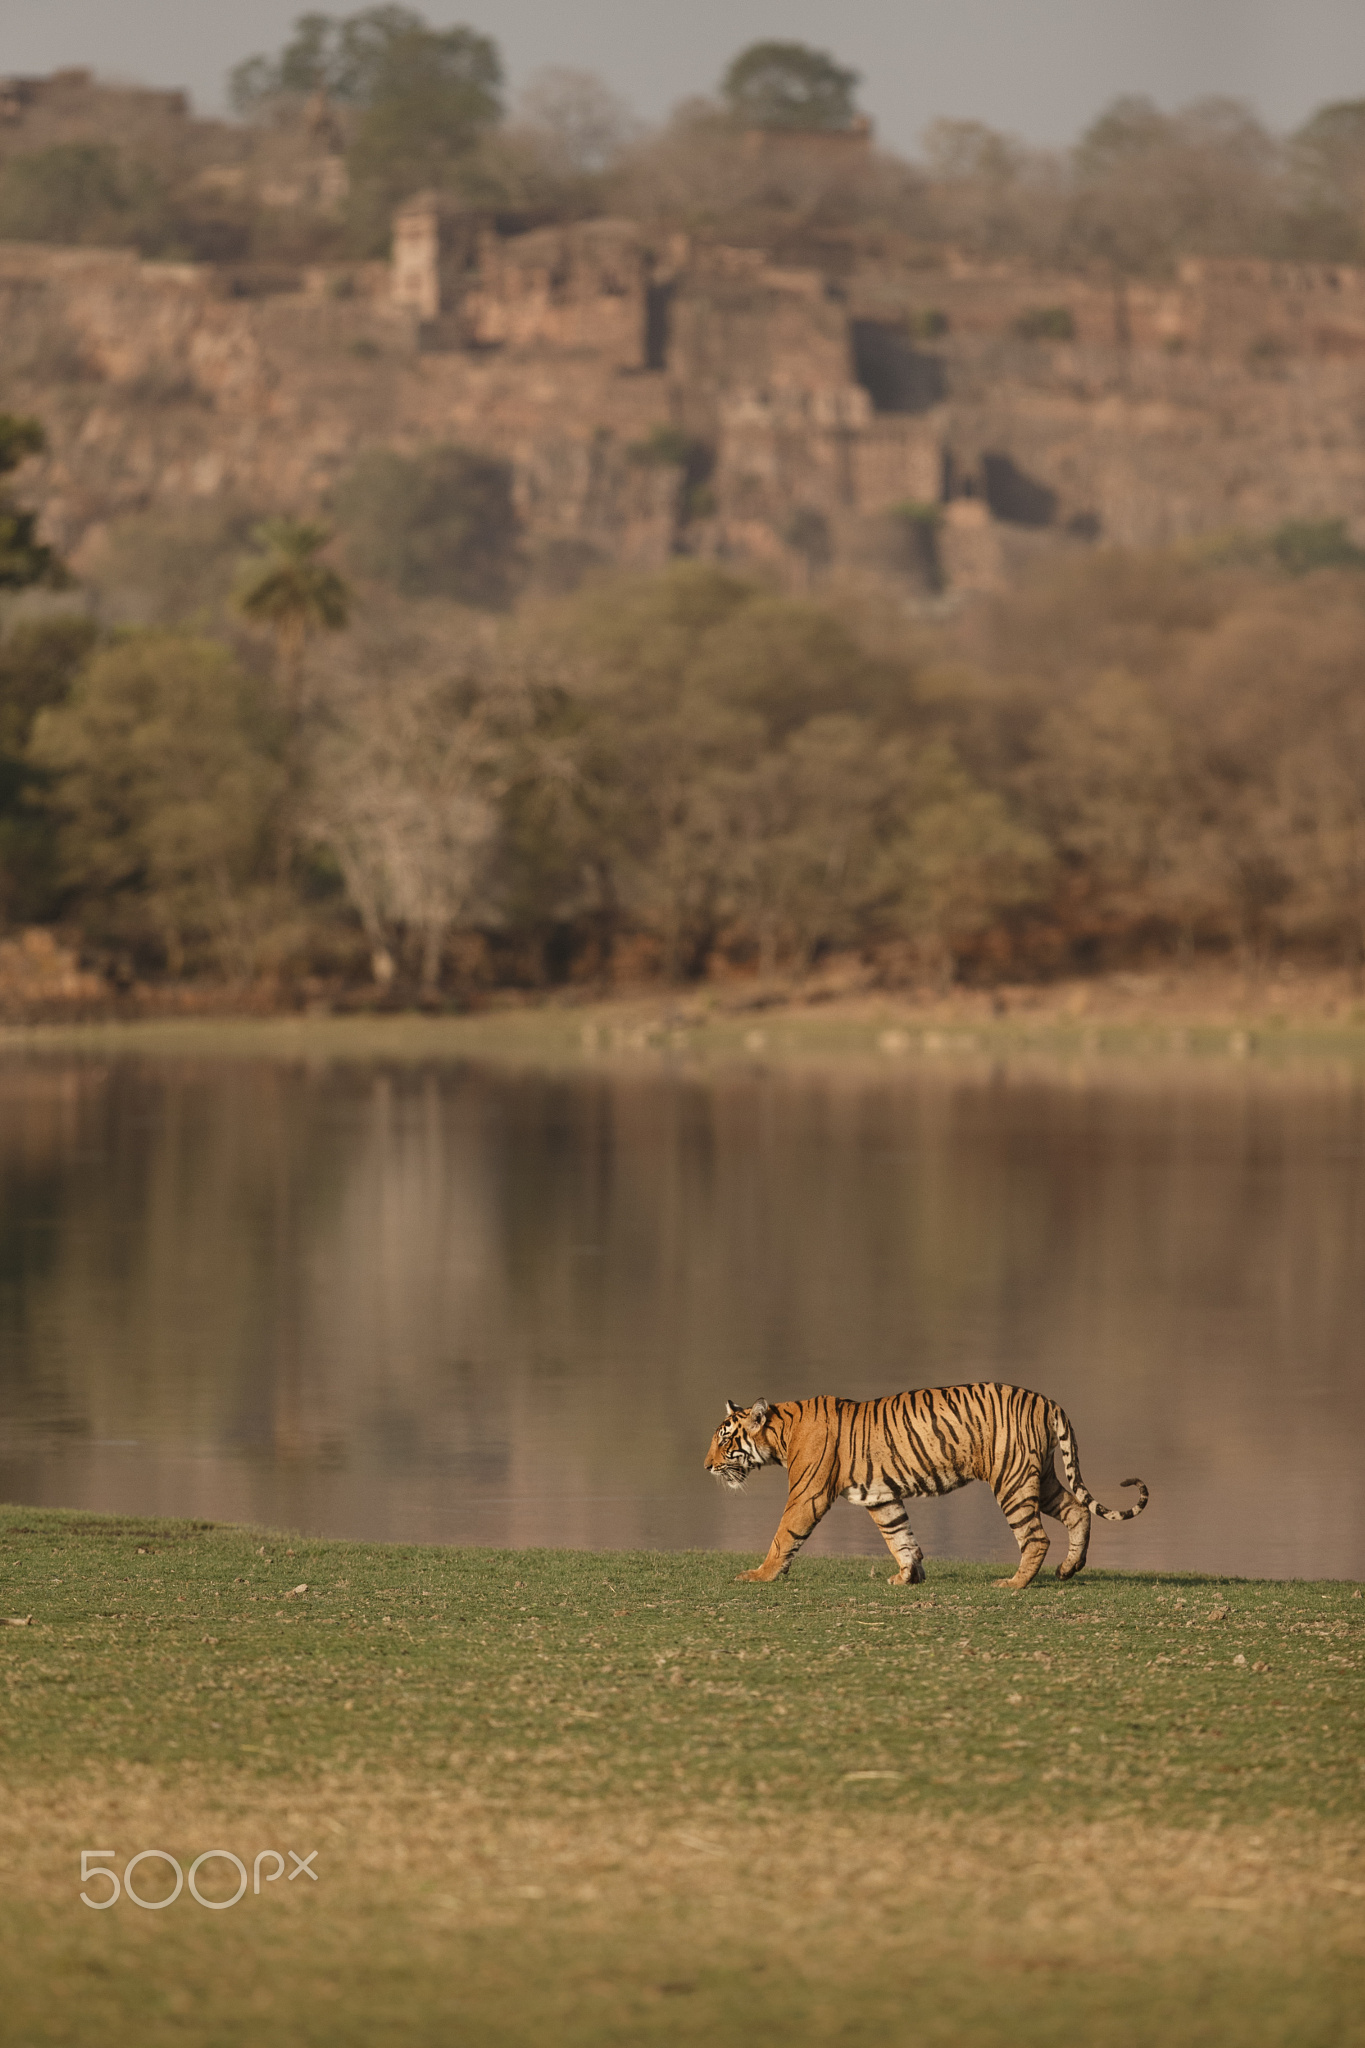tiger: (686, 1357, 1152, 1614)
